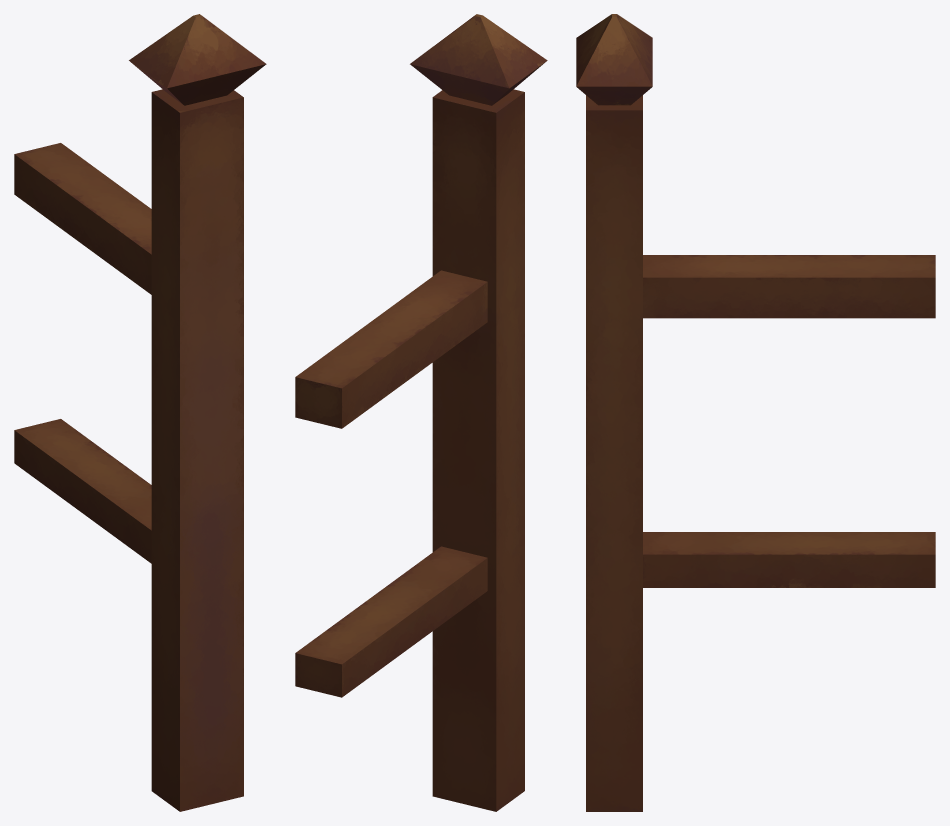
The model's file is fence 1 - Copy.fbx.
The picture shows the model from 3 angles, left to right: view 1: azimuth 30°, elevation 25°; view 2: azimuth 150°, elevation 25°; view 3: azimuth 270°, elevation 25°; orthographic projection.
Visible parts, largest first — view 1: Pagar; view 2: Pagar; view 3: Pagar.
Part boxes in pixels (x1=…): Pagar: x1=14, y1=14, x2=266, y2=811; Pagar: x1=295, y1=14, x2=547, y2=811; Pagar: x1=576, y1=14, x2=935, y2=811.
Size of the model in its own units: 46.93 by 350 by 146.
Materials: 1 (1 with a texture image).
